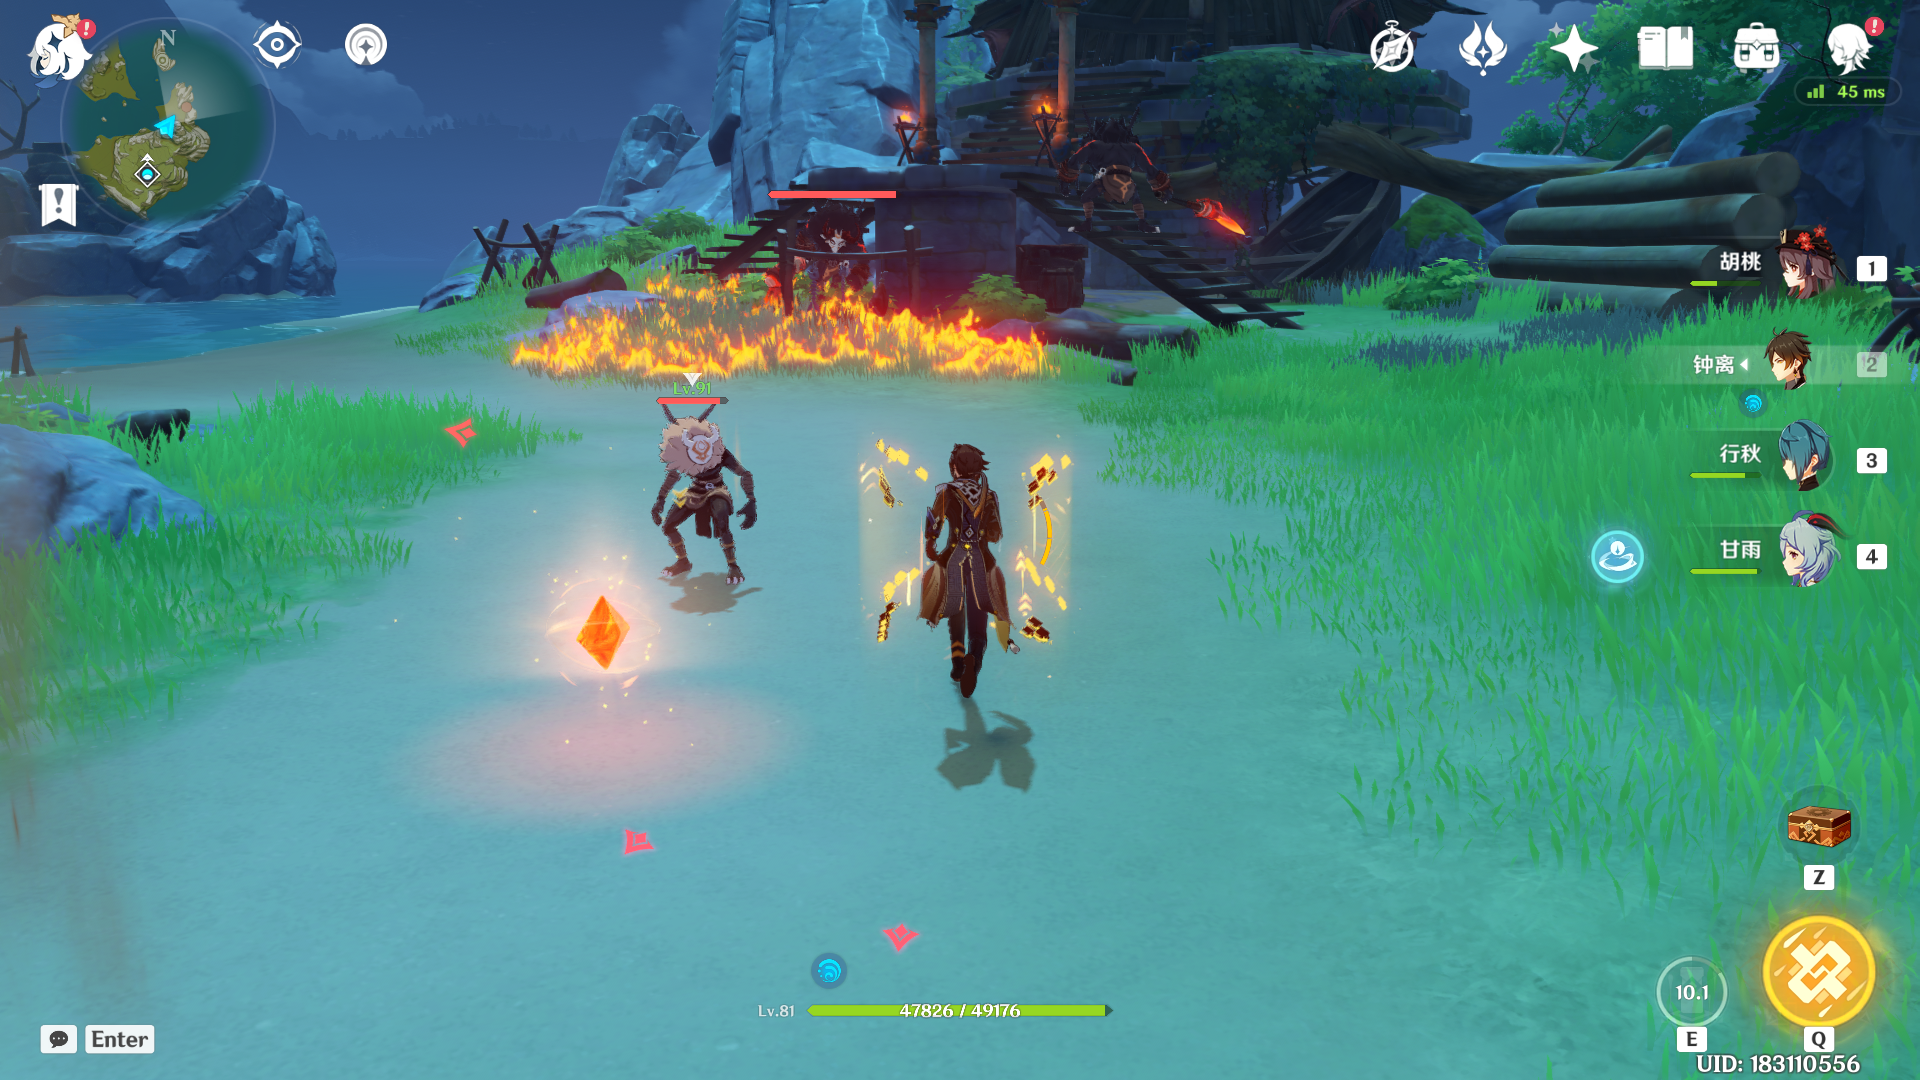bighili: (757, 193, 916, 345), (1054, 119, 1212, 231)
character: (869, 433, 1098, 742)
hili: (607, 385, 775, 591)
